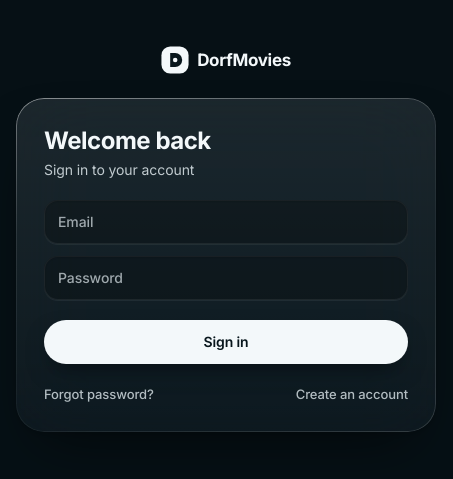
it: LoginForm › reports a failed sign-in instead of navigating
Type "a@b.com" into the field with placeholder "Email" at (226, 222), box [44,200,408,244]
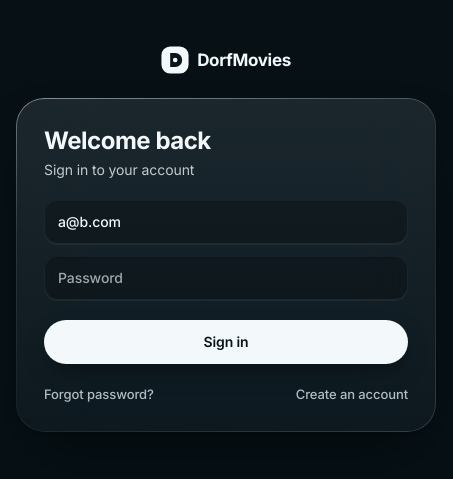
Type "hunter2!!" into the password field with placeholder "Password" at (226, 278), box [44,256,408,300]
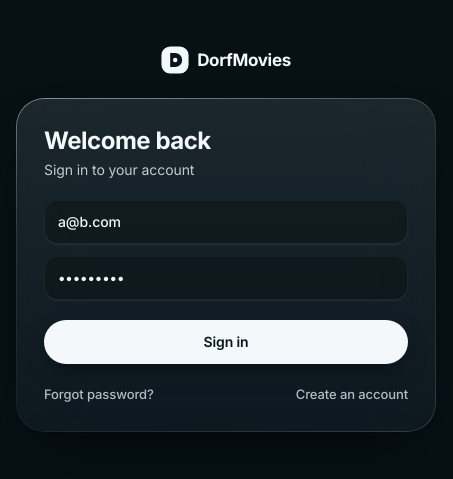
Submit the text "Sign in"
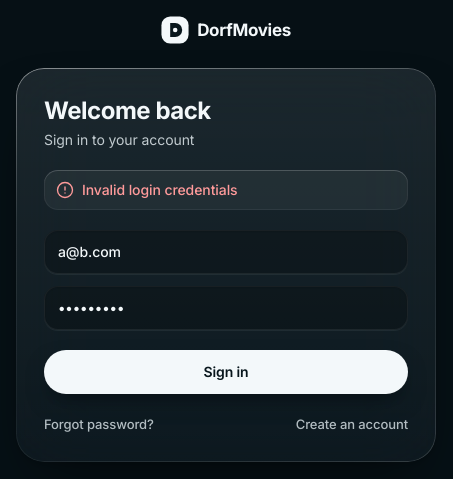
Now the text "Invalid login credentials" is shown, box [82,180,238,200]
